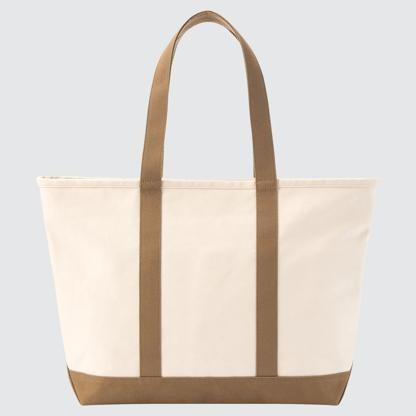not trash: (26, 3, 381, 411)
